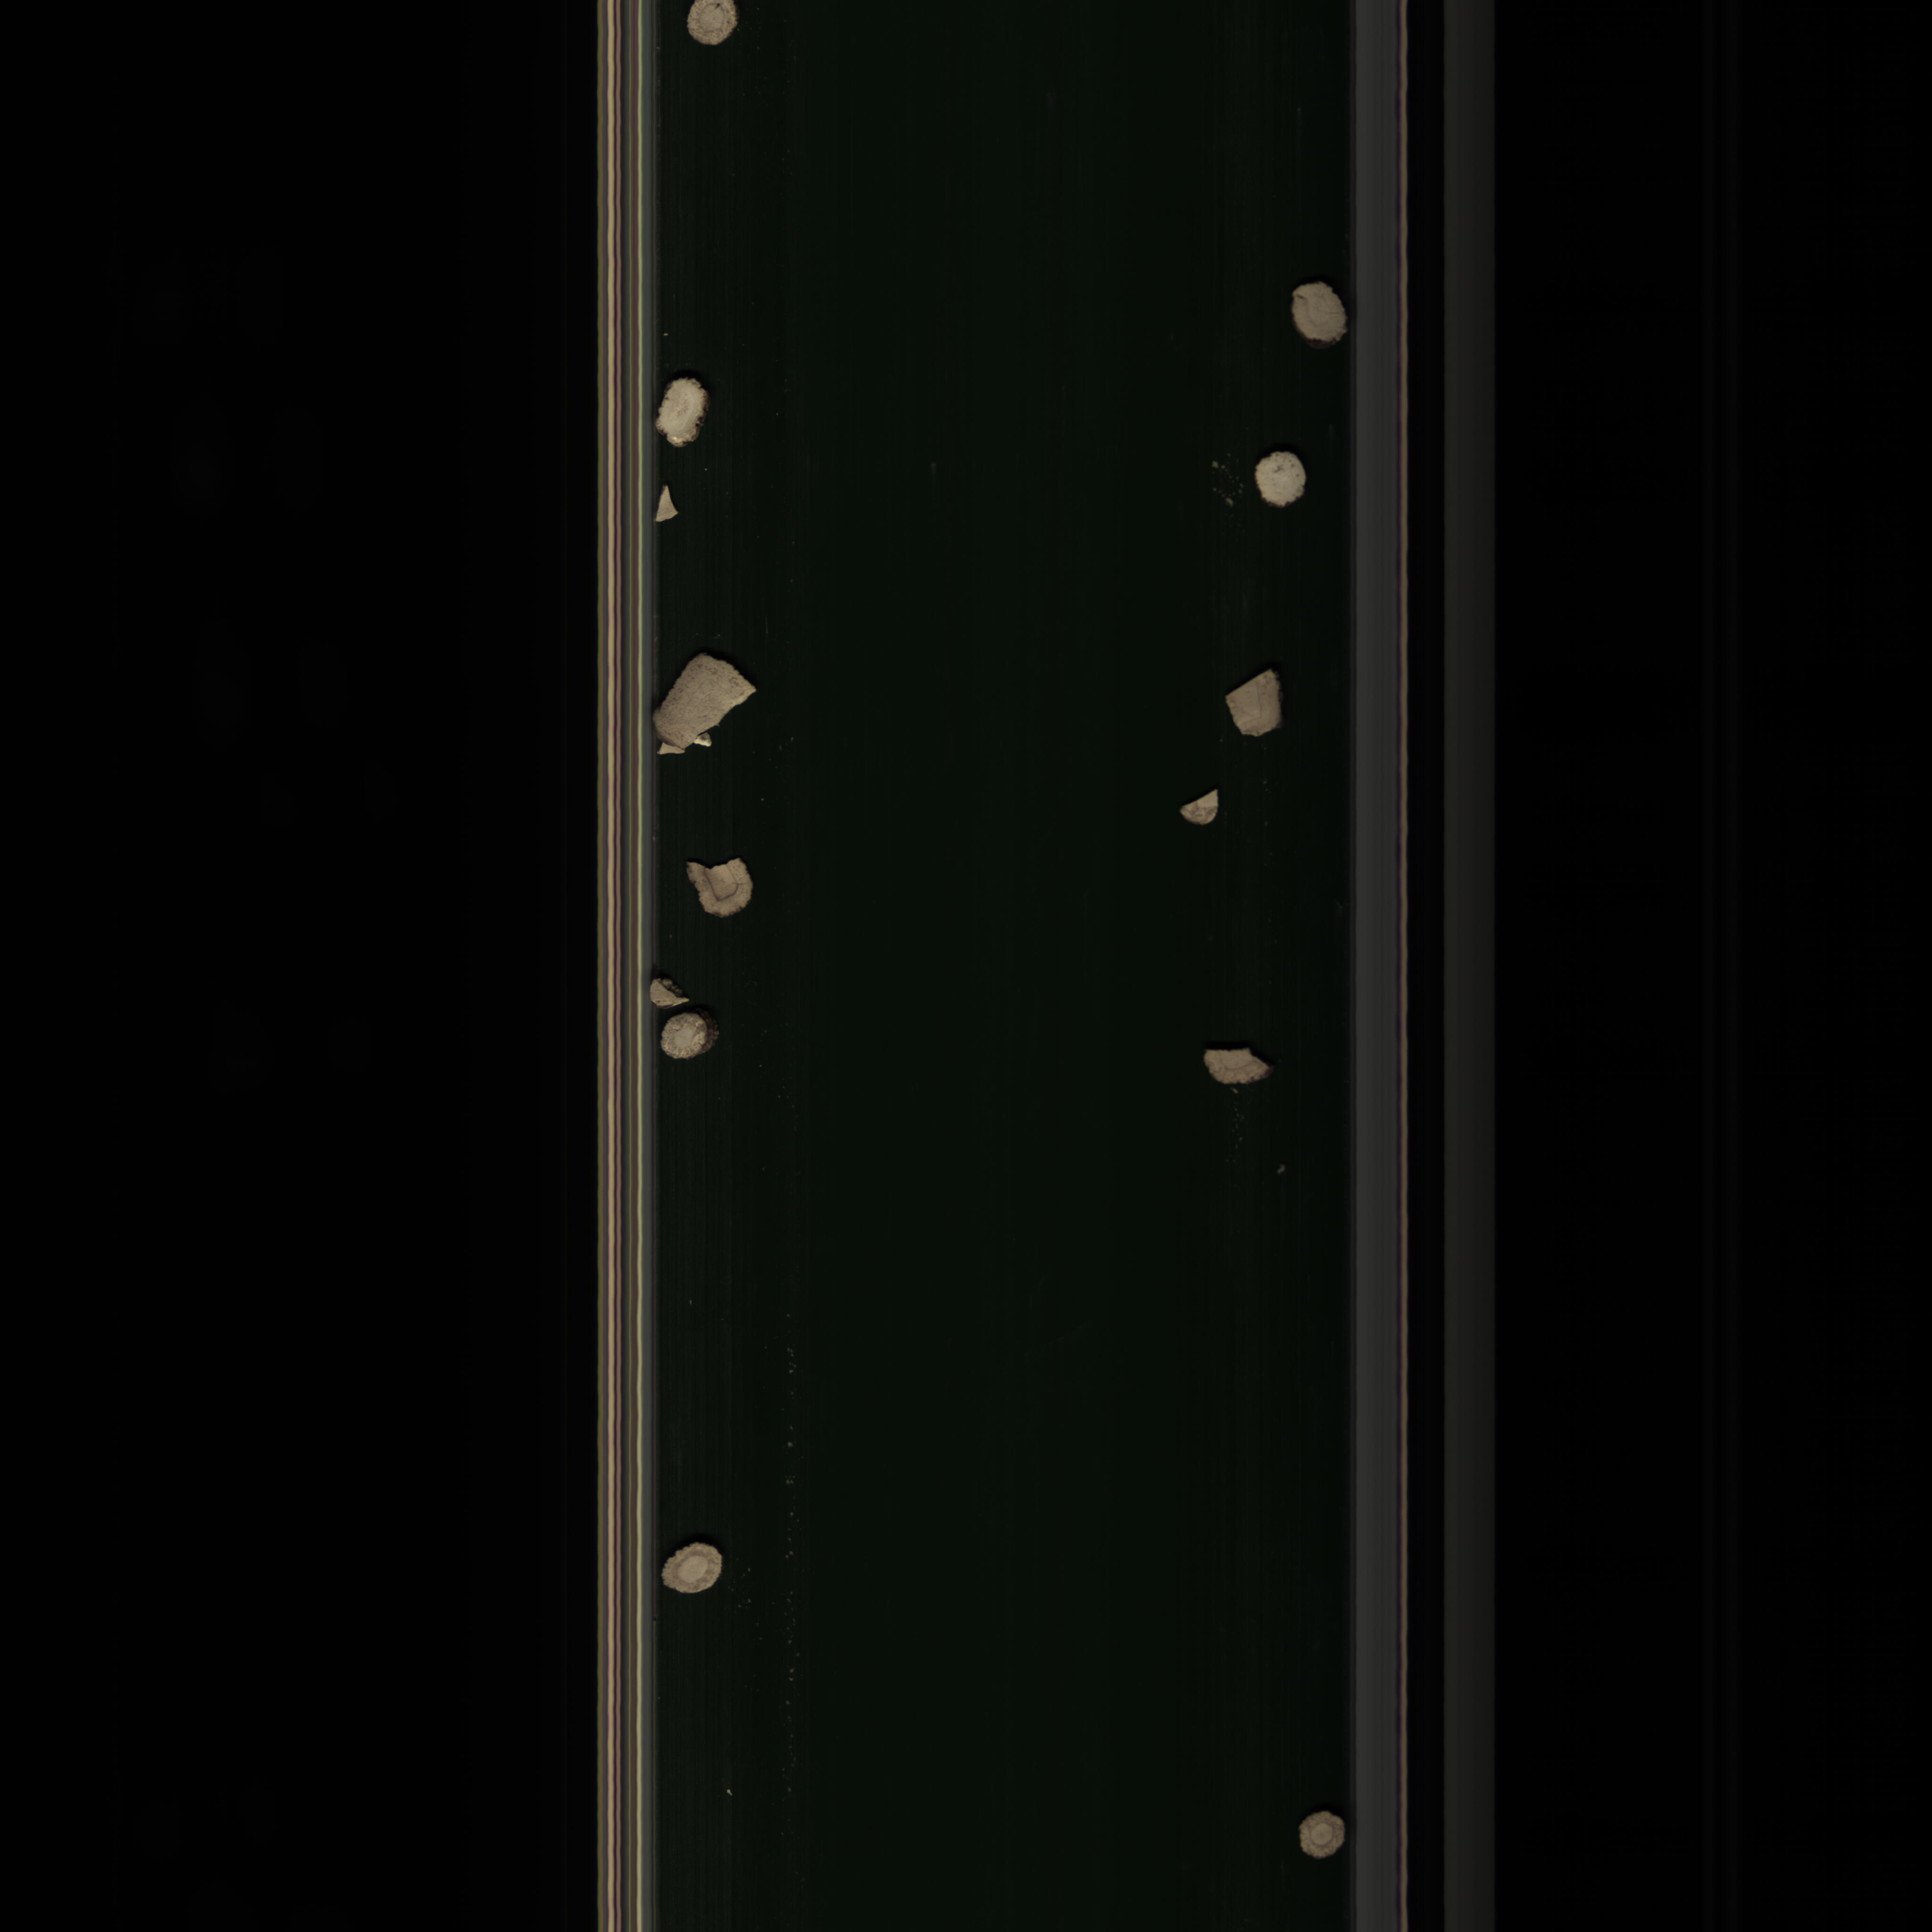debris: (649, 644, 773, 764), (1207, 660, 1292, 741), (672, 847, 764, 920), (1196, 1040, 1276, 1093), (1177, 786, 1230, 833), (637, 970, 697, 1008), (651, 481, 681, 522)
distortion: (656, 372, 713, 449)
